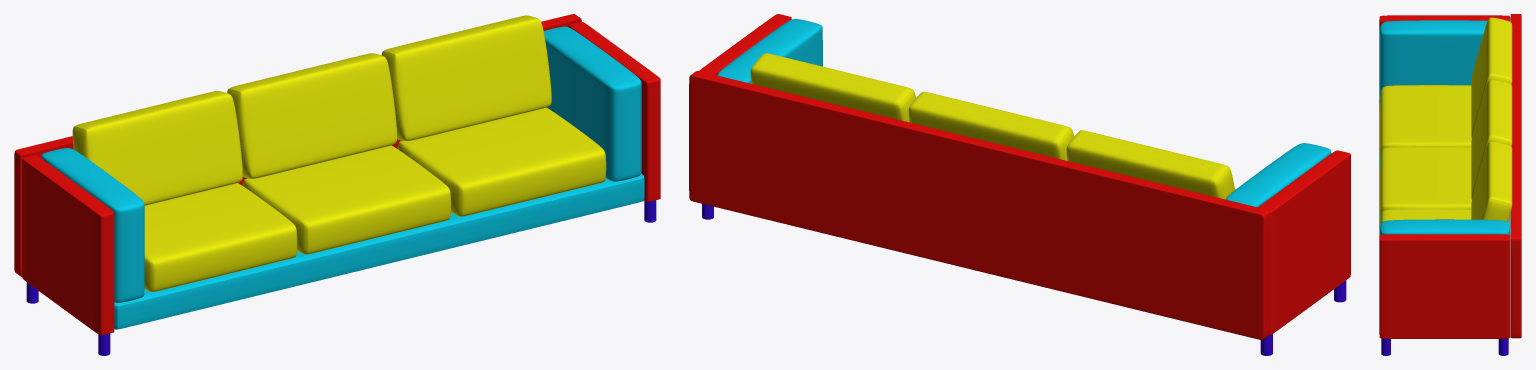
Rendered from Sofá_CFS.fbx.
3 views of the same model, side by side, from view 1: azimuth 30°, elevation 25°; view 2: azimuth 150°, elevation 25°; view 3: azimuth 270°, elevation 25° (orthographic). The views are drawn at different scales.
Parts seen in each view (by area): view 1: Cube, Cube.010, Cube.009, Cube.008, Cube.007, Cube.005, Cube.001, Cube.003, Cube.011, Cube.002, Cube.006, Cube.004 (+1 smaller); view 2: Cube.004, Cube.001, Cube.005, Cube.010, Cube.009, Cube.011, Cube.002, Cube.006, Cylinder; view 3: Cube.006, Cube.002, Cube.007, Cube.003, Cube.004, Cube.010, Cube.009, Cube.005, Cube.011, Cube.008, Cube.001, Cylinder (+1 smaller).
Part boxes in pixels (x1,y1,x2,y2): Cube: (114,173,644,329); Cube.010: (381,15,551,141); Cube.009: (227,53,397,178); Cube.008: (397,107,606,216); Cube.007: (242,145,451,254); Cube.005: (72,91,242,205); Cube.001: (22,155,114,335); Cube.003: (144,183,297,291); Cube.011: (543,26,641,181); Cube.002: (41,148,144,302); Cube.006: (568,21,660,201); Cube.004: (14,14,581,276); Cube.004: (689,71,1270,339); Cube.001: (1258,150,1350,334); Cube.005: (1066,130,1234,199); Cube.010: (750,53,915,122); Cube.009: (908,91,1073,160); Cube.011: (717,19,822,83); Cube.002: (1226,143,1331,207); Cube.006: (699,14,791,75); Cylinder: (702,204,1346,355); Cube.006: (1379,234,1510,338); Cube.002: (1379,20,1487,103); Cube.007: (1380,146,1471,218); Cube.003: (1380,85,1471,156); Cube.004: (1510,14,1521,338); Cube.010: (1471,141,1512,222); Cube.009: (1471,79,1512,199); Cube.005: (1471,17,1512,137); Cube.011: (1379,219,1509,235); Cube.008: (1380,209,1471,224); Cube.001: (1379,15,1510,111); Cylinder: (1381,338,1508,355).
Bounding box in the file's own units: 445 × 126 × 119.
